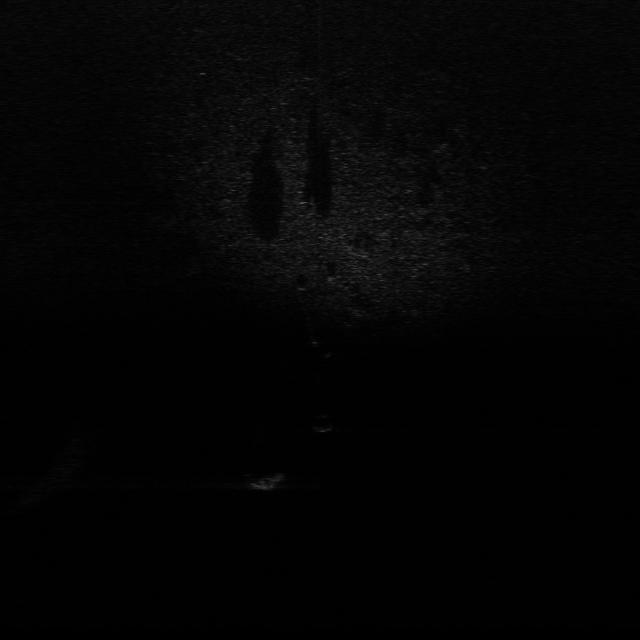ball: (300, 413, 336, 436)
human body: (302, 318, 334, 363)
square cage: (242, 466, 290, 493)
